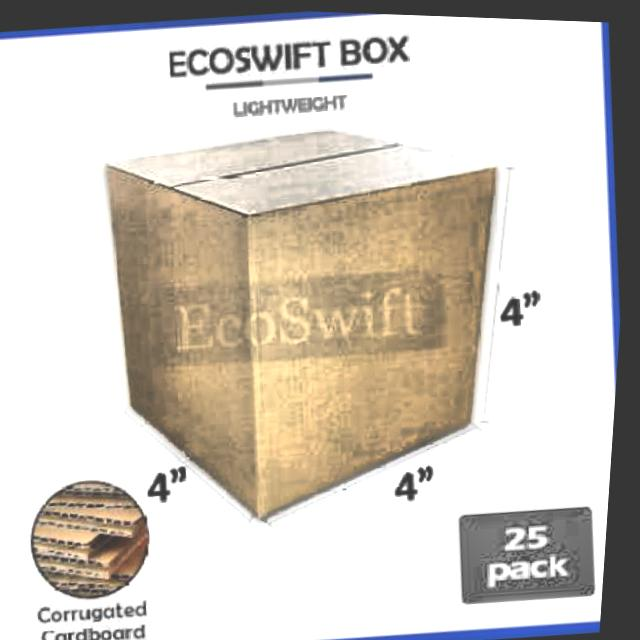Cardbox: (61, 78, 575, 541), (405, 467, 422, 494)
